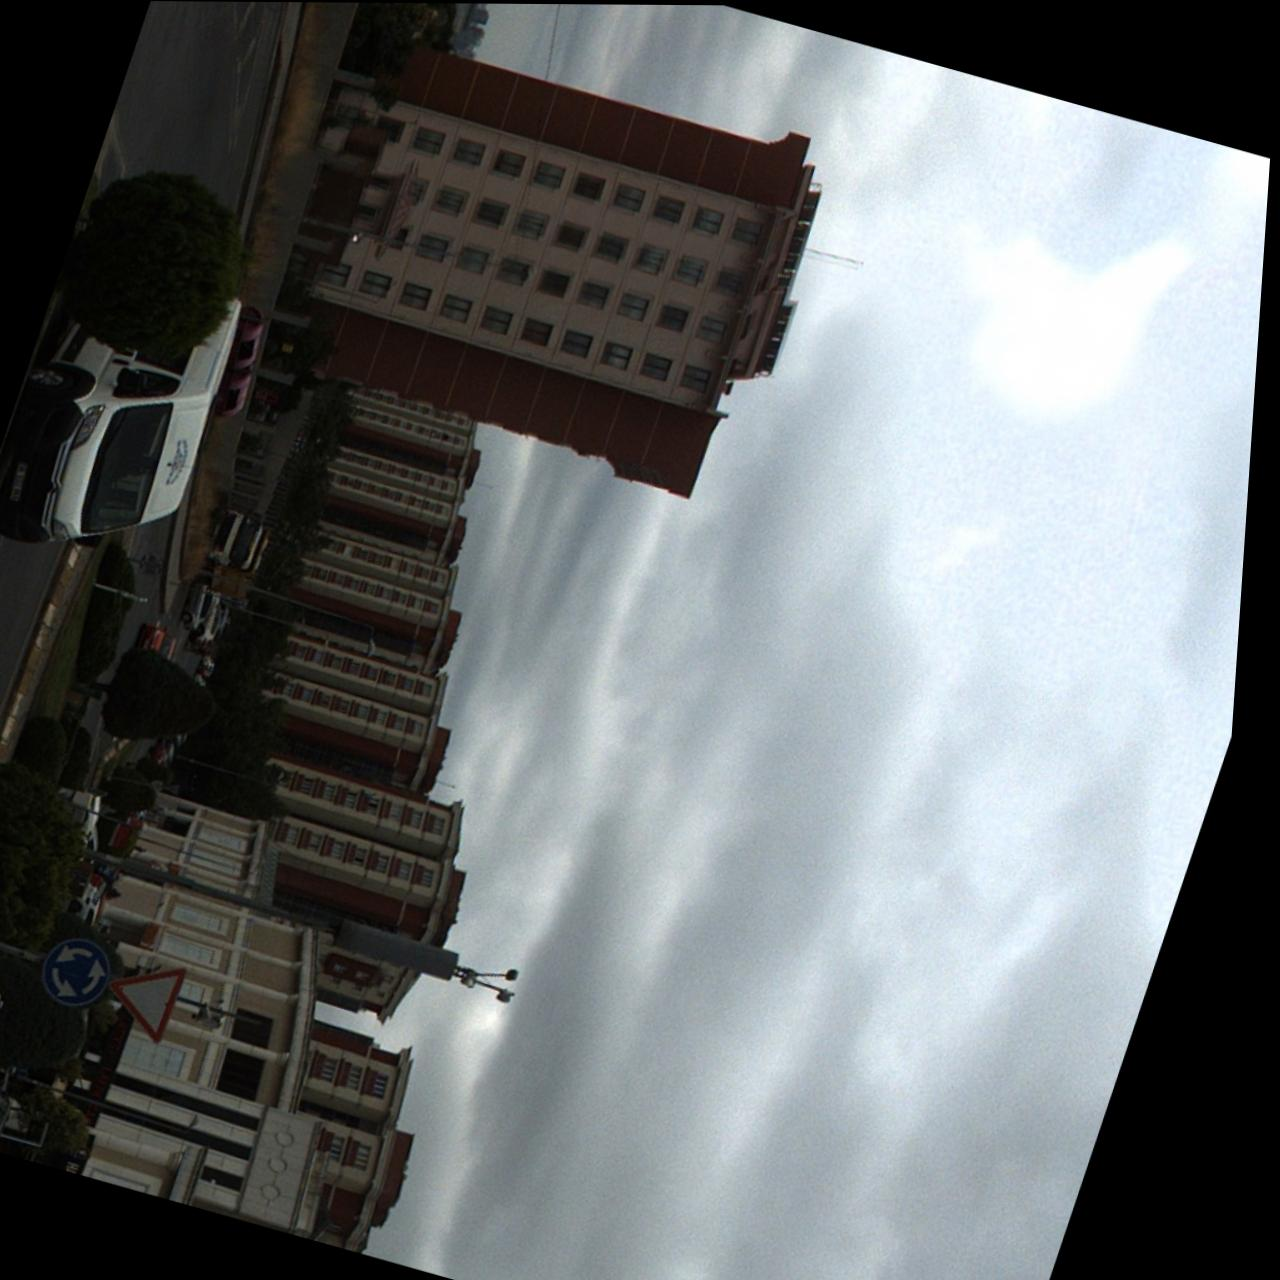SignStore: (97, 1009, 148, 1128), (73, 1144, 107, 1175), (151, 921, 173, 948)
